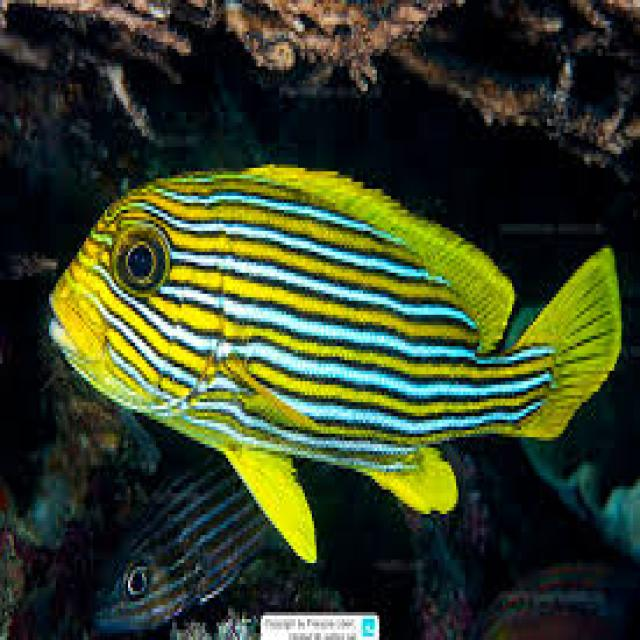RibbonedSweetlips: (44, 157, 624, 563)
